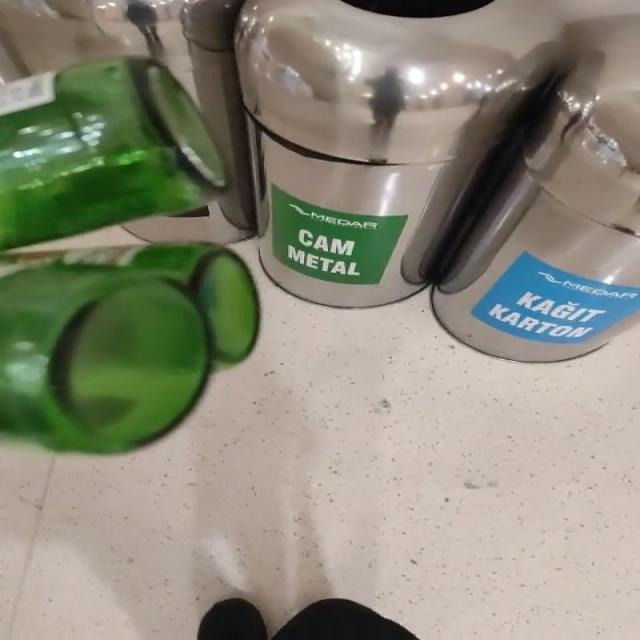Glass: (3, 244, 259, 453), (1, 56, 224, 249)
